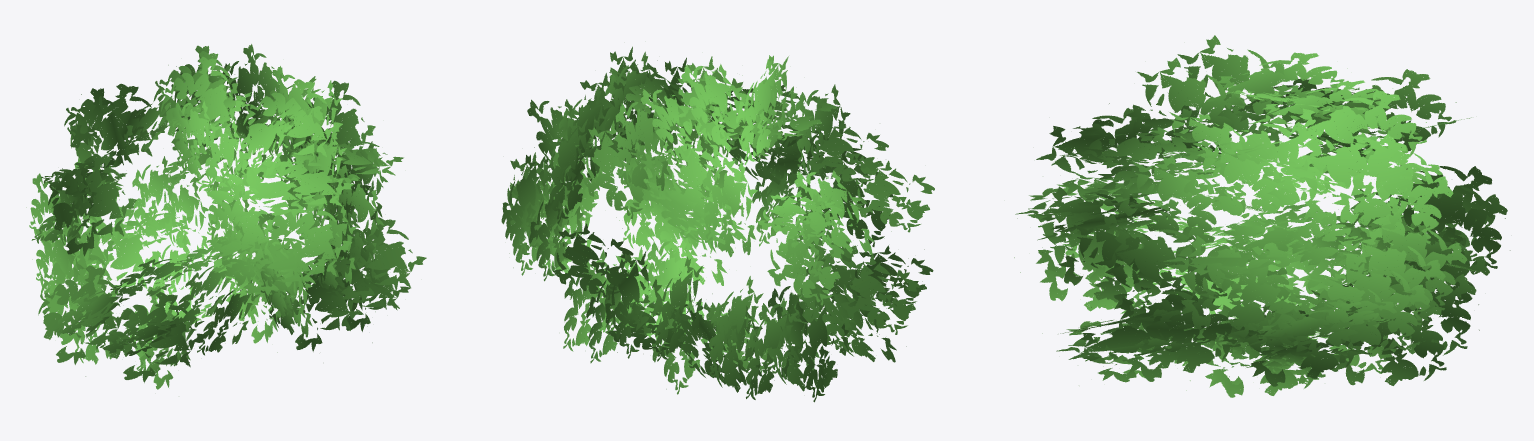
Rendered from Bush_A.fbx.
The picture shows the model from 3 angles, left to right: view 1: azimuth 30°, elevation 25°; view 2: azimuth 150°, elevation 25°; view 3: azimuth 270°, elevation 25°; orthographic projection. The views are drawn at different scales.
Parts seen in each view (by area): view 1: Bush_A_LOD0; view 2: Bush_A_LOD0; view 3: Bush_A_LOD0.
Part boxes in pixels (left/top/right/bottom): Bush_A_LOD0: left=26, top=44, right=426, bottom=389; Bush_A_LOD0: left=501, top=46, right=934, bottom=402; Bush_A_LOD0: left=1014, top=35, right=1510, bottom=397.
Size of what is drawn, in the model's own units: 3.46 by 3.53 by 3.09.
